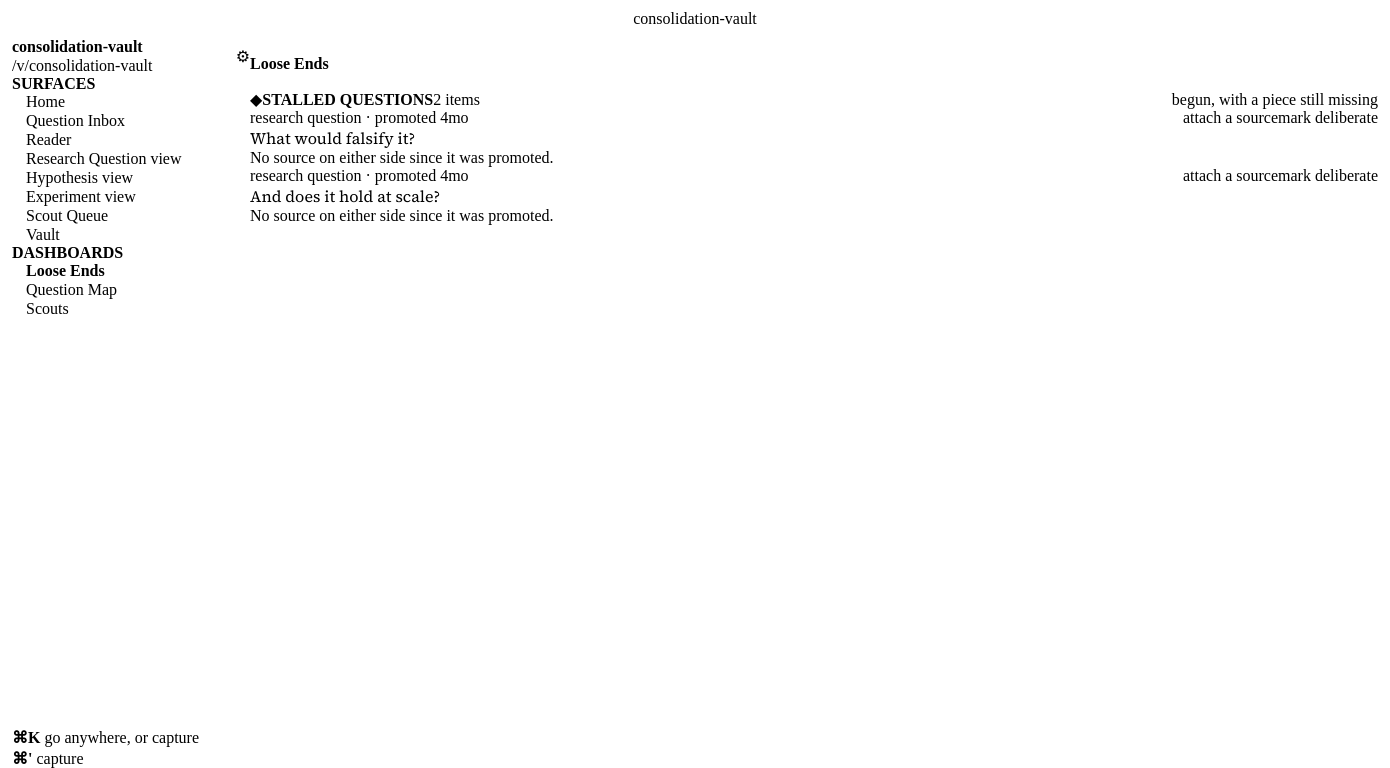
Test: the Loose Ends dashboard › says so on the row when *mark deliberate* is refused, and leaves the row open
This screenshot has width=1390, height=768.
Step 1. Click the 1st button "mark deliberate" → click(1328, 118), box 1278,109 -> 1378,127
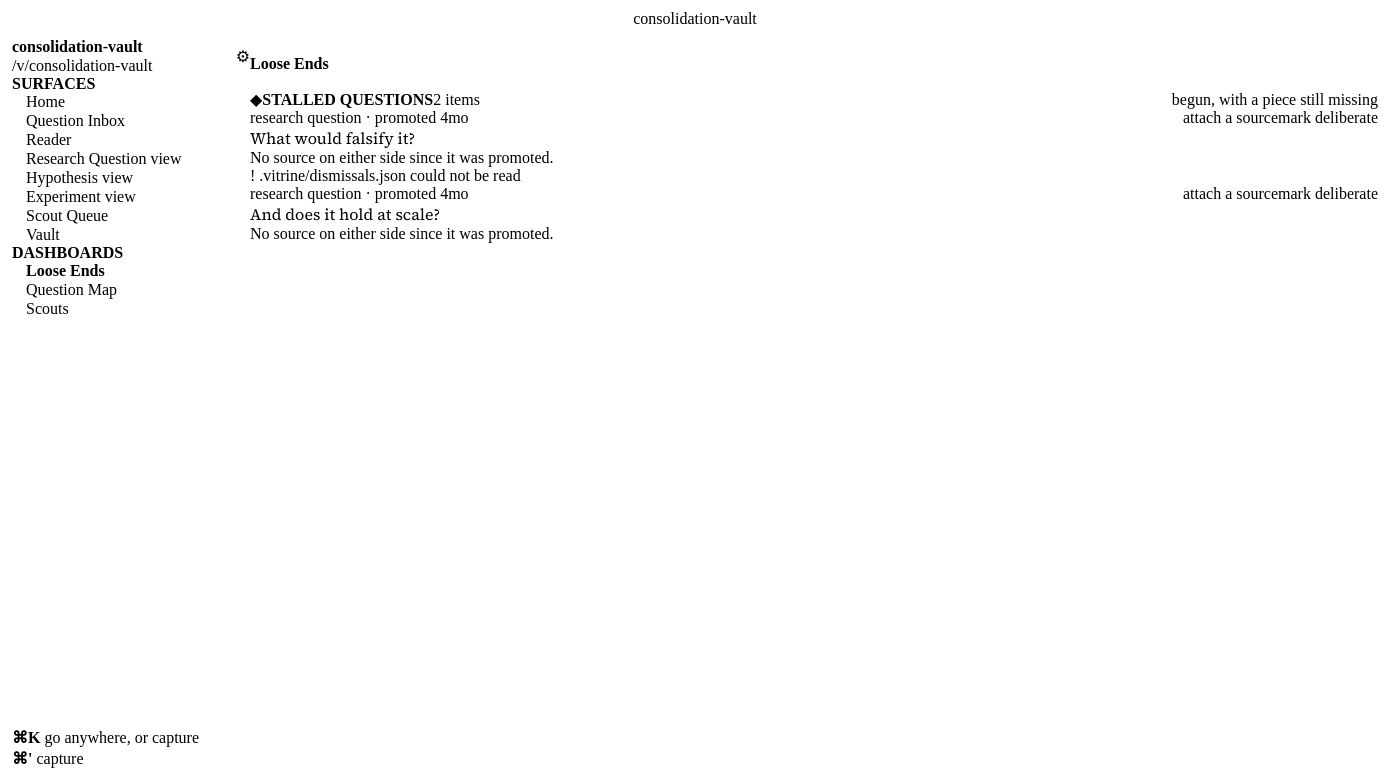
Result: the message shows "dismissals.json" at 259,167 -> 521,184
